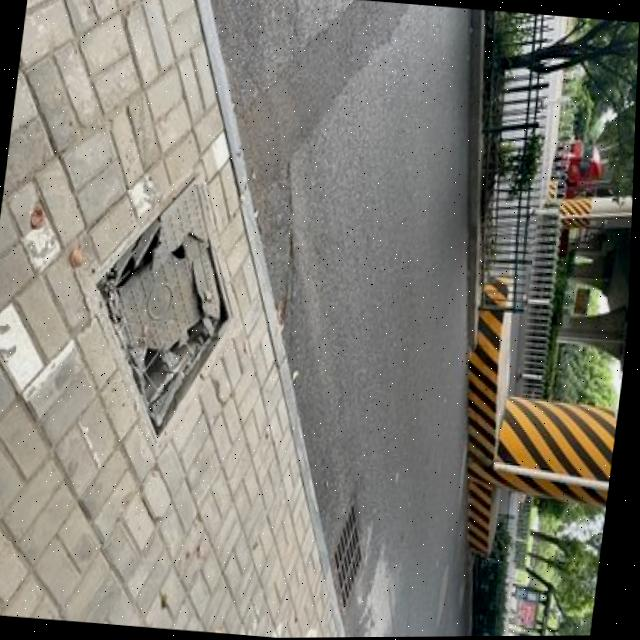manhole: (77, 155, 251, 444)
